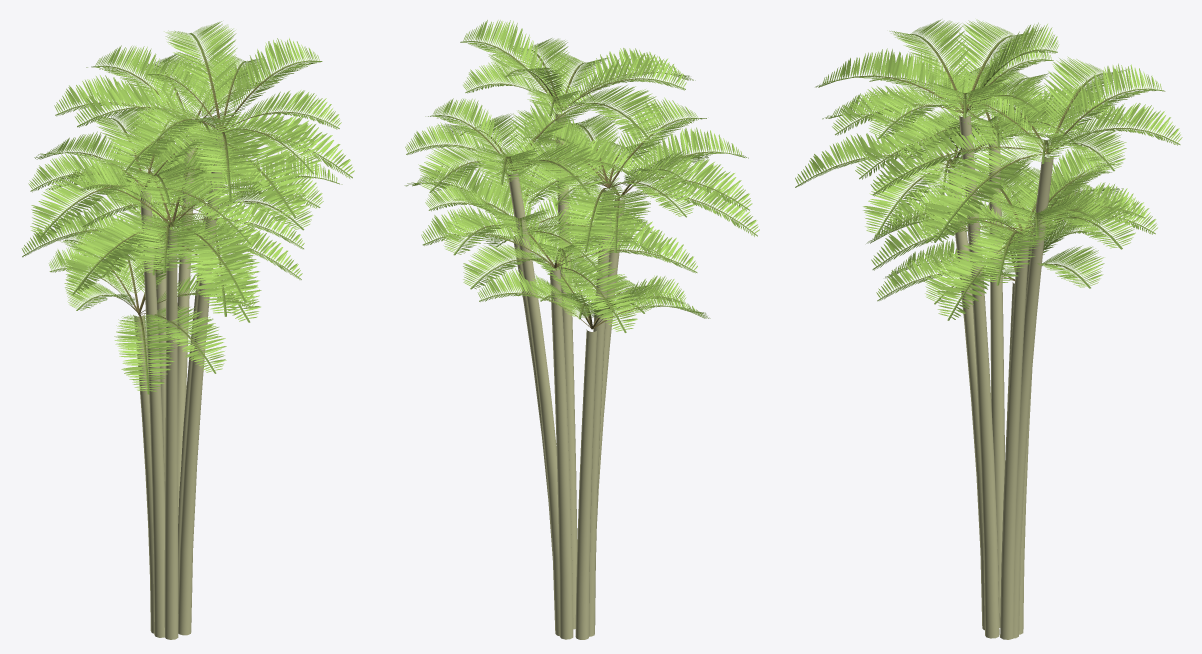
Rendered from dypsis-lutescens.glb.
The picture shows the model from 3 angles, left to right: view 1: azimuth 30°, elevation 25°; view 2: azimuth 150°, elevation 25°; view 3: azimuth 270°, elevation 25°; orthographic projection. The views are drawn at different scales.
Visible parts, largest first — view 1: fronde, estipe; view 2: fronde, estipe; view 3: fronde, estipe.
Part boxes in pixels (bbox=[...]): fronde: bbox=[21, 21, 354, 394]; estipe: bbox=[133, 134, 226, 639]; fronde: bbox=[404, 20, 759, 332]; estipe: bbox=[507, 113, 624, 639]; fronde: bbox=[795, 19, 1182, 320]; estipe: bbox=[947, 114, 1053, 639].
Bounding box in the file's own units: 3 × 5 × 2.89.
Materials: 2 (1 with a texture image).
